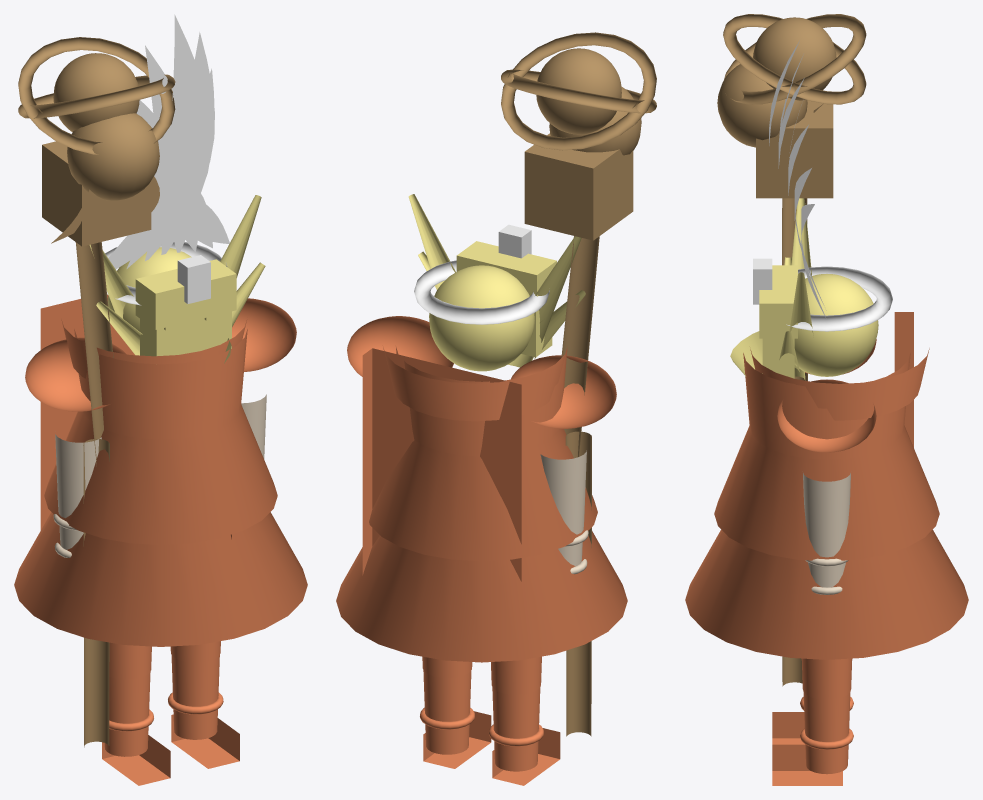
Rendered from shaman.gltf.
The picture shows the model from 3 angles, left to right: view 1: azimuth 30°, elevation 25°; view 2: azimuth 150°, elevation 25°; view 3: azimuth 270°, elevation 25°; orthographic projection. The views are drawn at different scales.
Parts seen in each view (by area): view 1: Torso, Staff, Headdress, Head, LegR, LegL, ArmR, ArmL; view 2: Torso, Staff, Head, LegR, LegL, Headdress, ArmR; view 3: Torso, Staff, Head, LegL, Headdress, ArmL, LegR.
Part boxes in pixels (bbox=[...]): Torso: bbox=[14, 294, 307, 646]; Staff: bbox=[18, 37, 175, 747]; Headdress: bbox=[105, 14, 229, 305]; Head: bbox=[89, 195, 265, 363]; LegR: bbox=[102, 642, 170, 785]; LegL: bbox=[168, 641, 239, 768]; ArmR: bbox=[53, 434, 101, 557]; ArmL: bbox=[241, 394, 266, 459]; Torso: bbox=[336, 316, 627, 662]; Staff: bbox=[501, 32, 656, 736]; Head: bbox=[408, 194, 585, 371]; LegR: bbox=[488, 656, 560, 785]; LegL: bbox=[420, 656, 491, 768]; Headdress: bbox=[414, 224, 549, 324]; ArmR: bbox=[540, 450, 588, 574]; Torso: bbox=[685, 312, 968, 659]; Staff: bbox=[717, 14, 866, 686]; Head: bbox=[730, 198, 878, 380]; LegL: bbox=[772, 658, 853, 785]; Headdress: bbox=[753, 40, 892, 331]; ArmL: bbox=[803, 473, 850, 594]; LegR: bbox=[772, 697, 853, 744].
Bounding box in the file's own units: 0.968 × 2.48 × 0.88.
